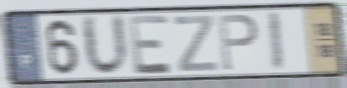6: (44, 17, 80, 77)
E: (126, 13, 175, 77)
I: (265, 10, 286, 74)
P: (216, 13, 260, 72)
U: (79, 12, 132, 79)
Z: (172, 13, 219, 74)
